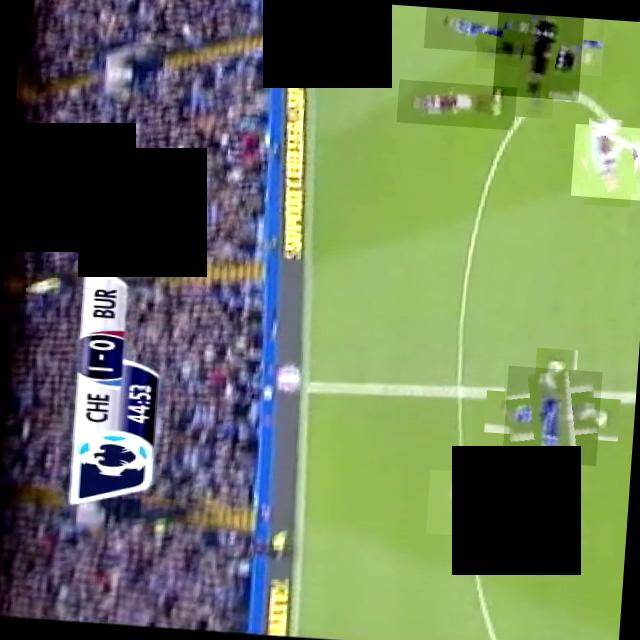referee: (491, 11, 583, 100)
soccer-player: (424, 469, 570, 543), (501, 366, 601, 466), (395, 79, 516, 130), (422, 6, 545, 56), (569, 123, 640, 200)
